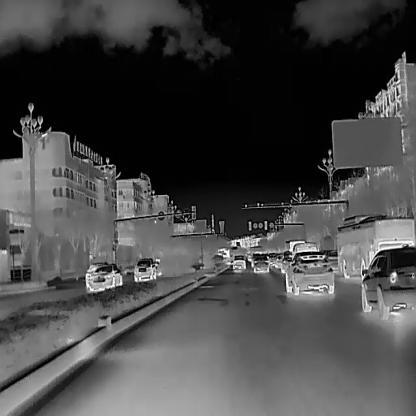car: (336, 212, 415, 279), (360, 247, 415, 321), (284, 250, 334, 294), (87, 263, 122, 289), (84, 261, 107, 288), (133, 257, 156, 280), (216, 246, 229, 269), (252, 253, 268, 271), (283, 238, 305, 250), (279, 252, 291, 273), (292, 242, 317, 251), (231, 253, 245, 269), (274, 251, 282, 267)
